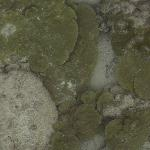alive: (3, 4, 145, 146)
